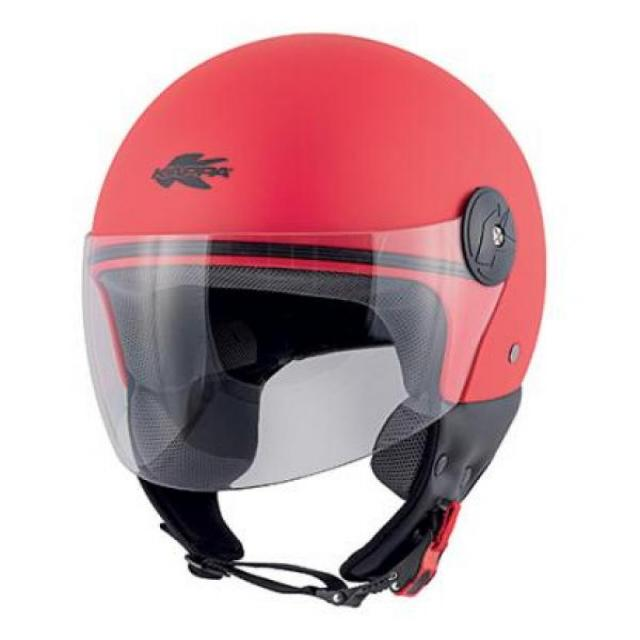Helmet: (67, 33, 546, 592)
